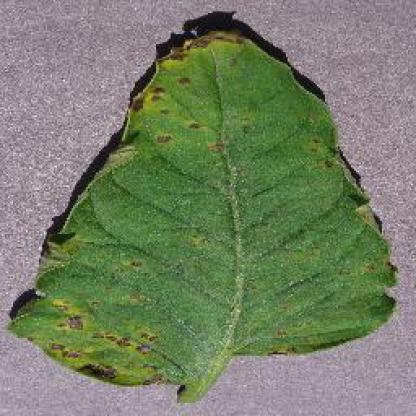bad leaf: (1, 0, 415, 415)
